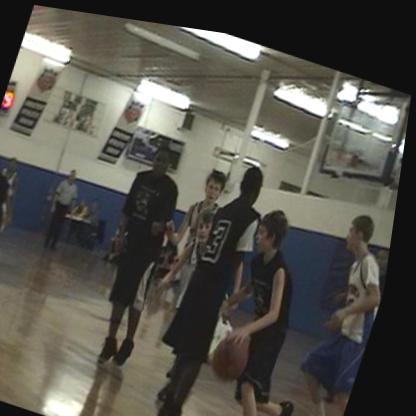basketball: (213, 319, 264, 378)
rim: (330, 134, 358, 154)
